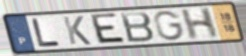B: (118, 11, 156, 44)
E: (89, 12, 128, 45)
G: (152, 9, 187, 42)
H: (180, 6, 220, 41)
K: (61, 15, 93, 46)
L: (30, 18, 63, 49)
